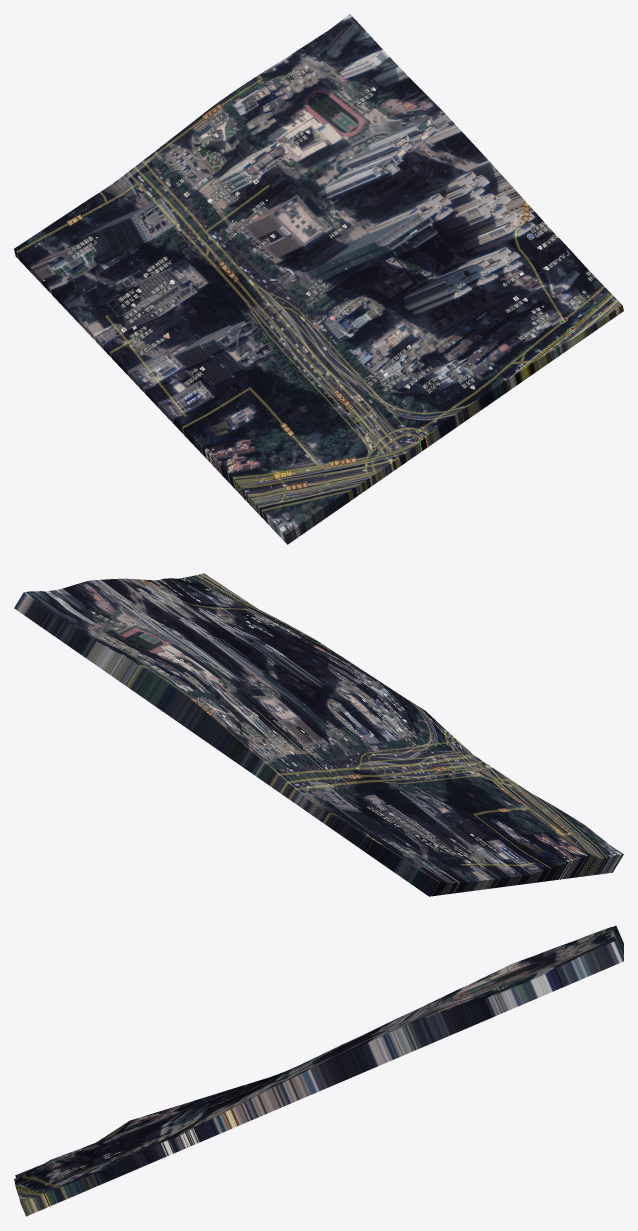
3 renders of one model, top to bottom at view 1: azimuth 30°, elevation 25°; view 2: azimuth 150°, elevation 25°; view 3: azimuth 270°, elevation 25°, orthographic. The views are drawn at different scales.
Parts seen in each view (by area): view 1: 0_9_20; view 2: 0_9_20; view 3: 0_9_20.
Boxes of the visible parts, bbox=[...] form: 0_9_20: bbox=[14, 14, 623, 544]; 0_9_20: bbox=[14, 573, 623, 896]; 0_9_20: bbox=[14, 925, 623, 1216].
Size of the model in its own units: 599 by 445 by 553.
Materials: 1 (1 with a texture image).
